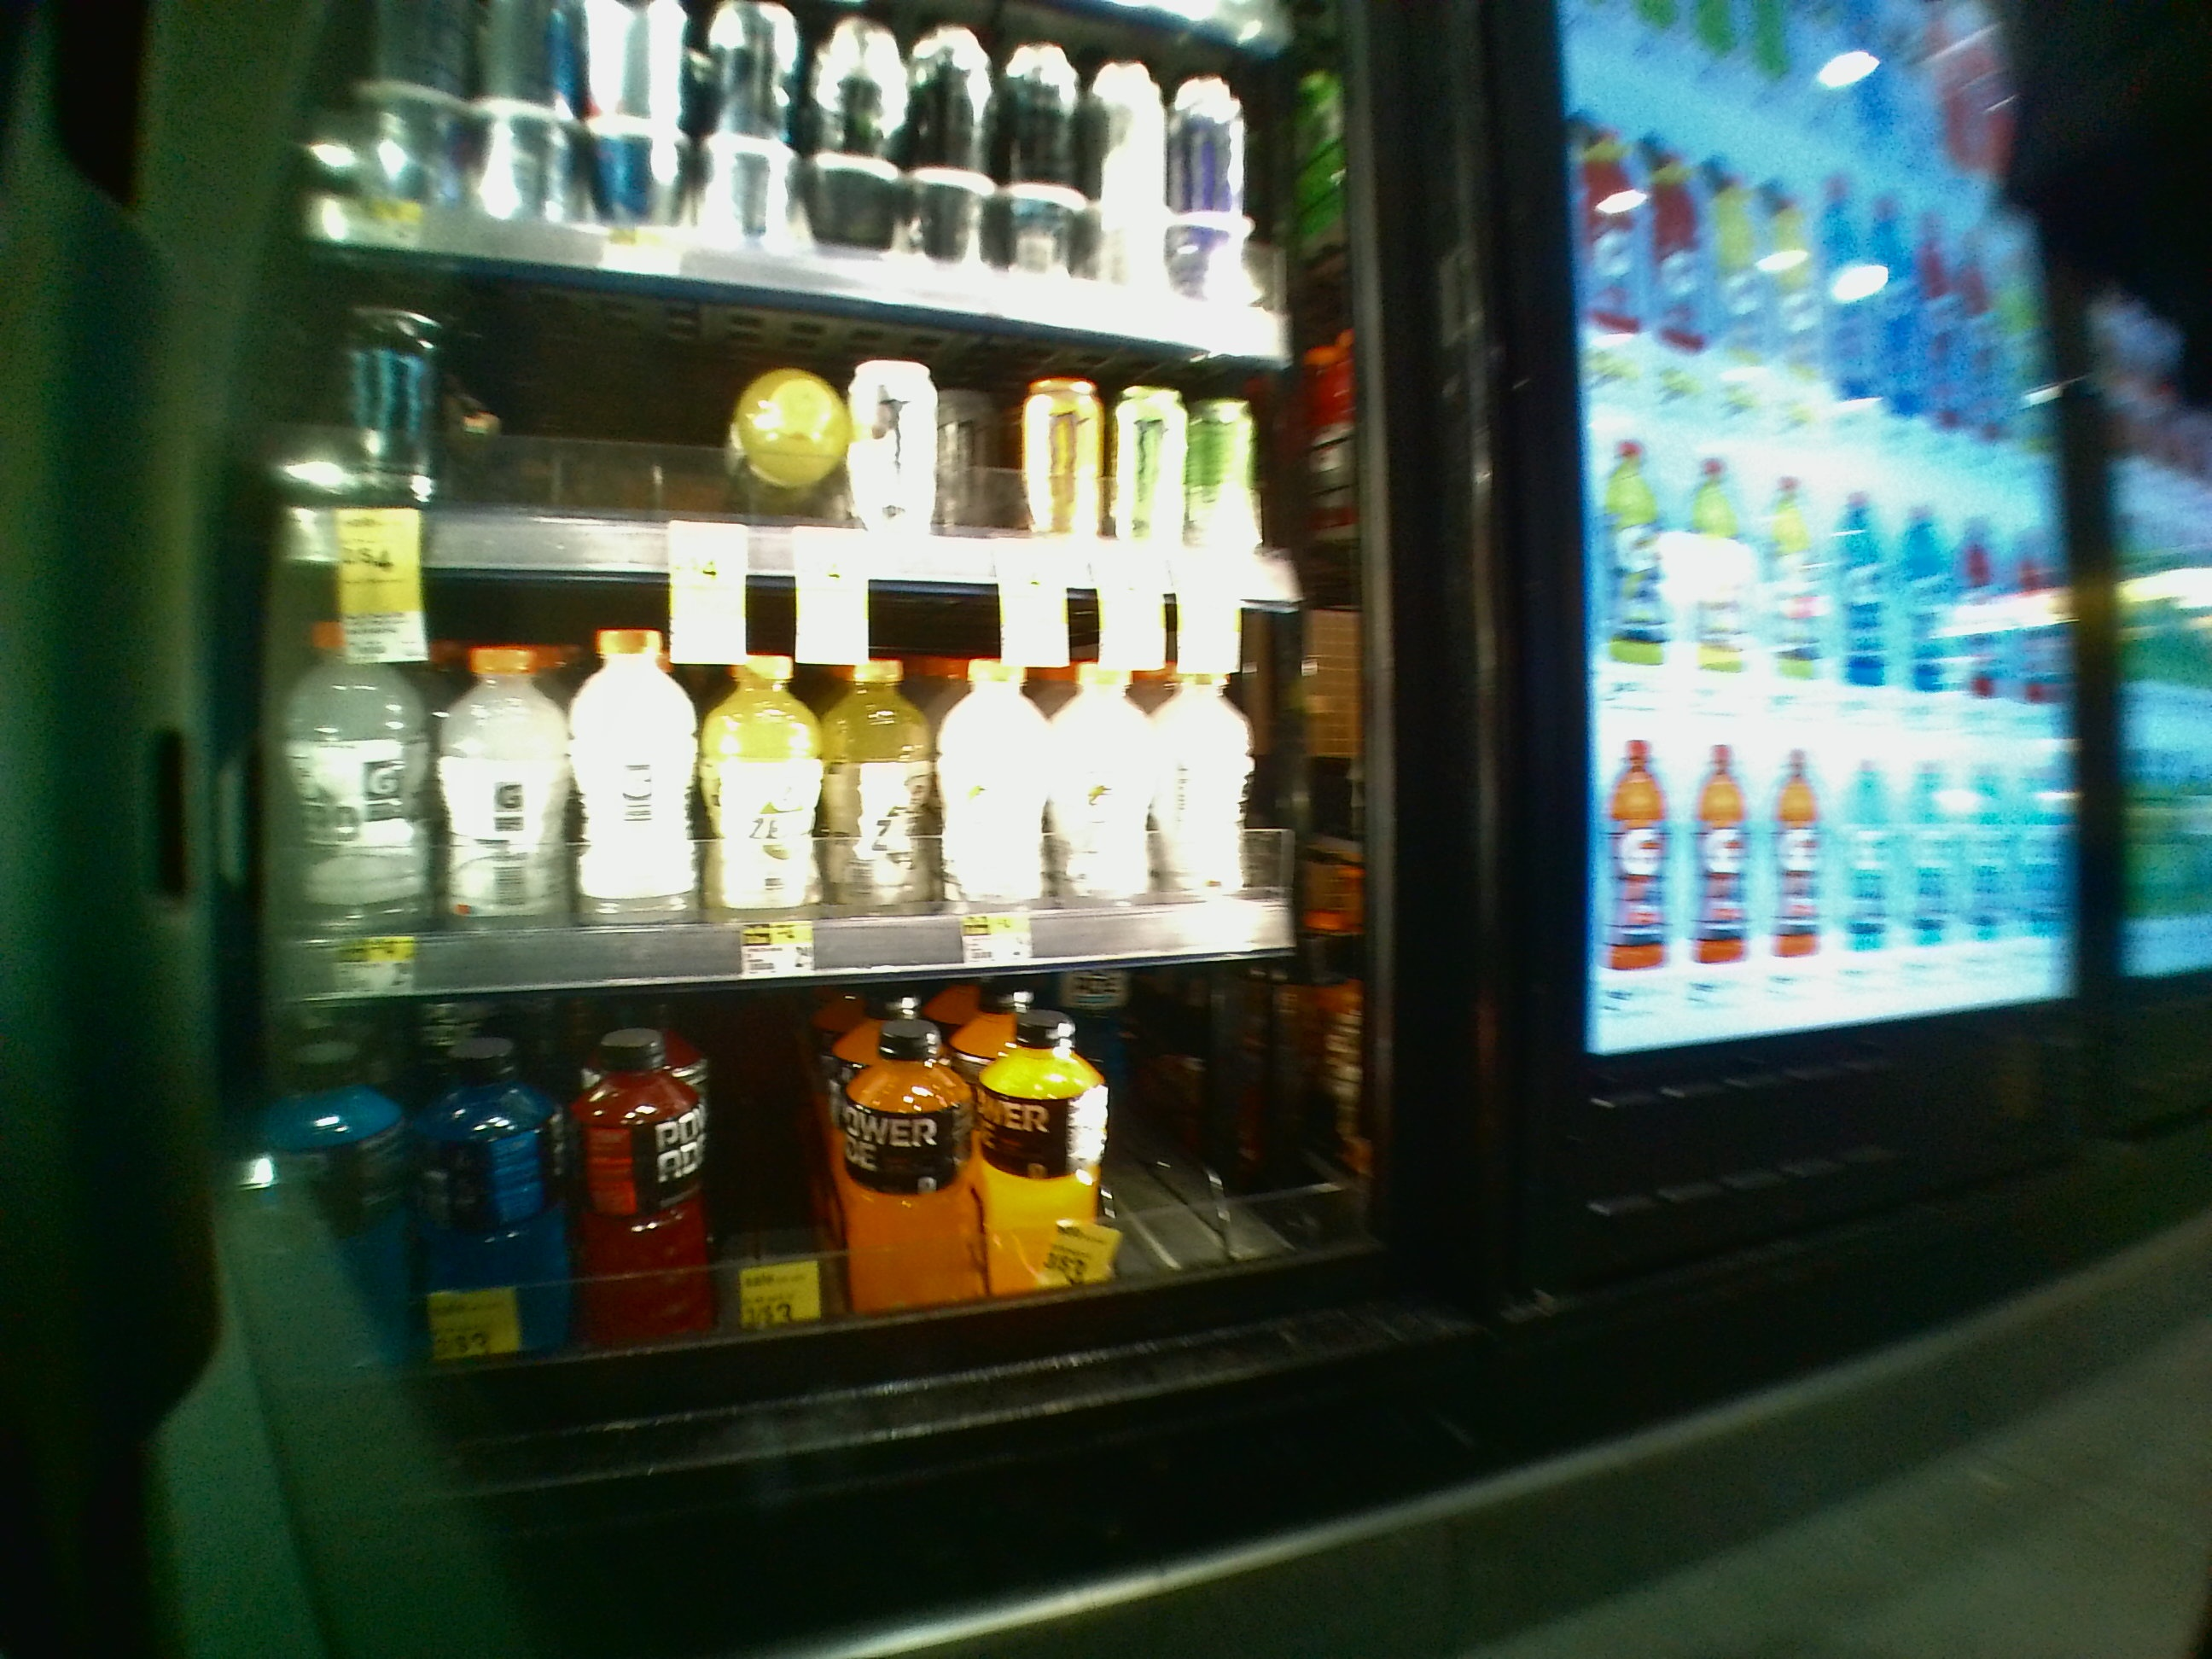shelf: (235, 962, 1409, 1392), (254, 573, 1392, 965)
